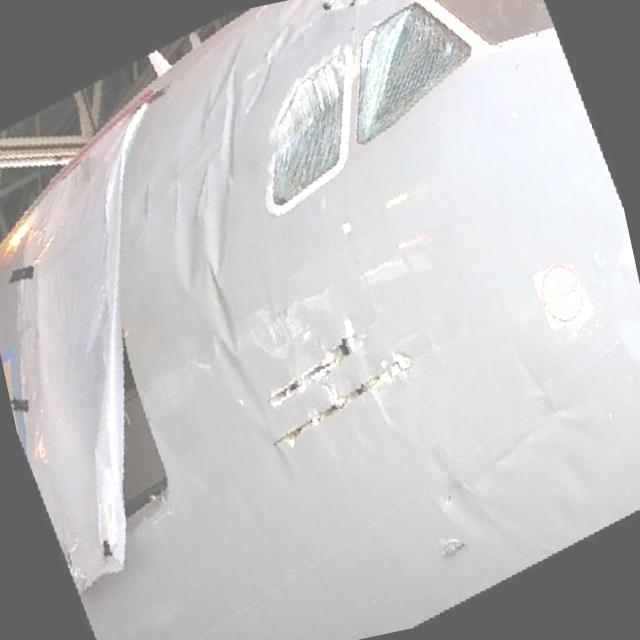crack: (246, 303, 424, 451)
